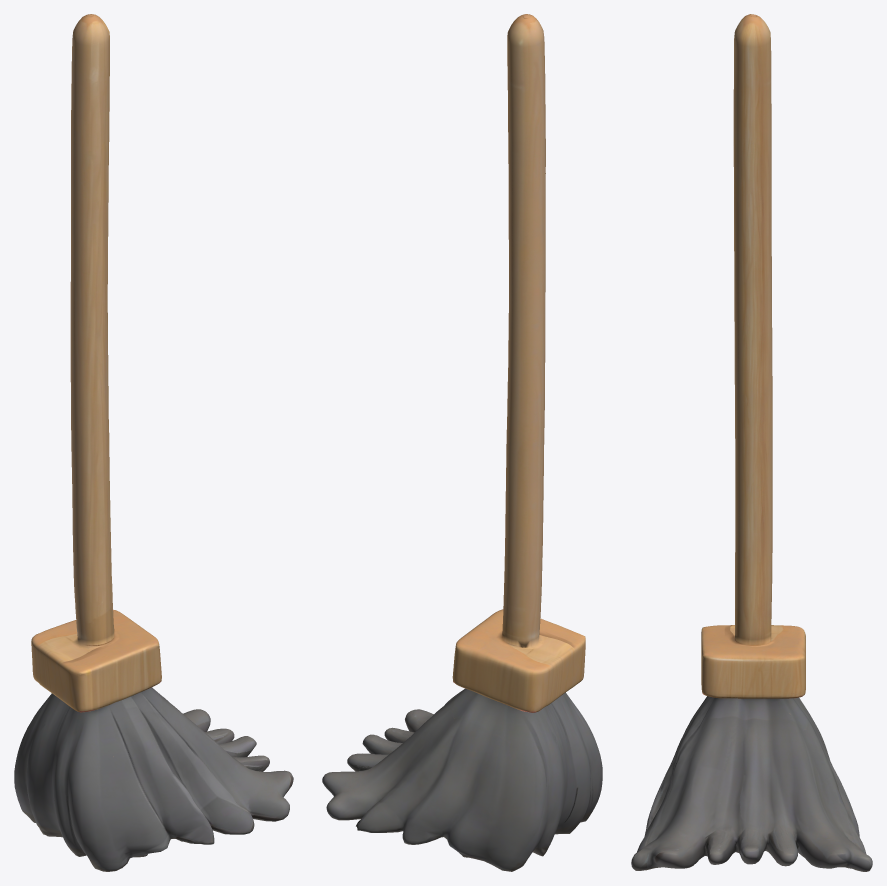
Rendered from low_poly_mop.glb.
The picture shows the model from 3 angles, left to right: view 1: azimuth 30°, elevation 25°; view 2: azimuth 150°, elevation 25°; view 3: azimuth 270°, elevation 25°; orthographic projection.
Bounding box in the file's own units: 0.5374 × 2 × 0.5329.
Materials: 1 (1 with a texture image).
